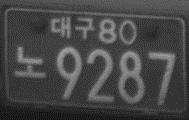0: (118, 19, 137, 45)
2: (84, 47, 115, 103)
7: (145, 50, 178, 108)
8: (117, 50, 145, 104), (98, 17, 117, 44)
9: (55, 45, 83, 99)
노: (14, 45, 48, 80)
대구_O: (49, 15, 95, 40)
